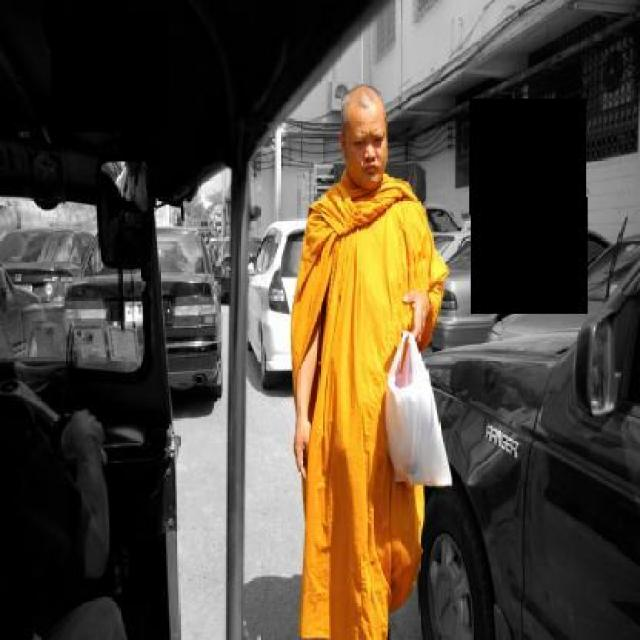plastic bag: (383, 328, 452, 484)
